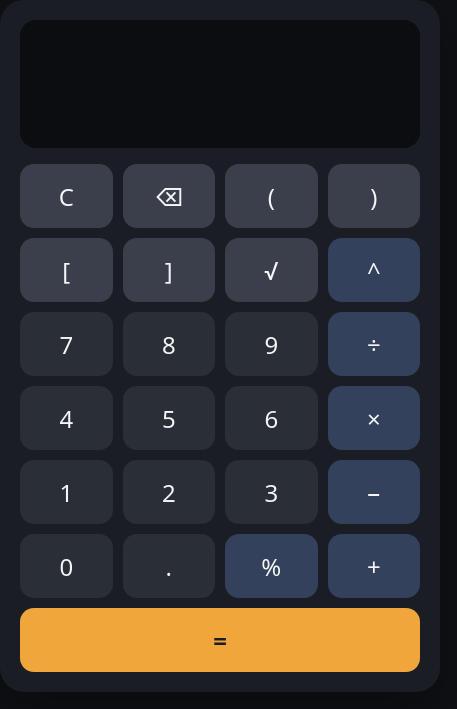
Test: Calculator › computes an expression entered with the keypad
Step 1. Click the button "2" → point(169, 492), box [122, 460, 215, 524]
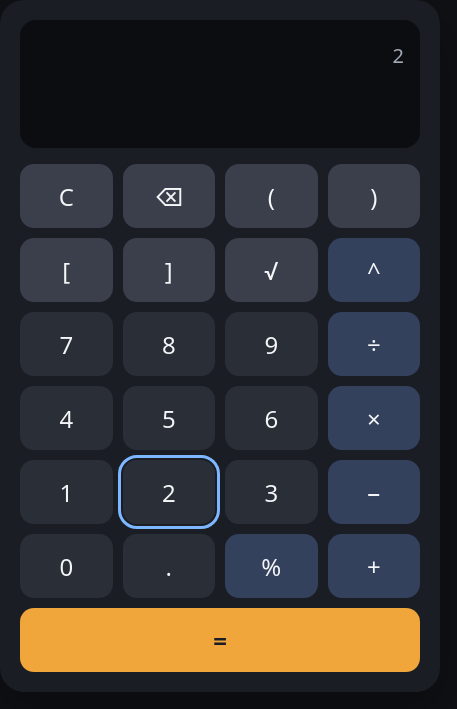
Step 2. Click the button named "add" → point(374, 566), box [328, 534, 420, 598]
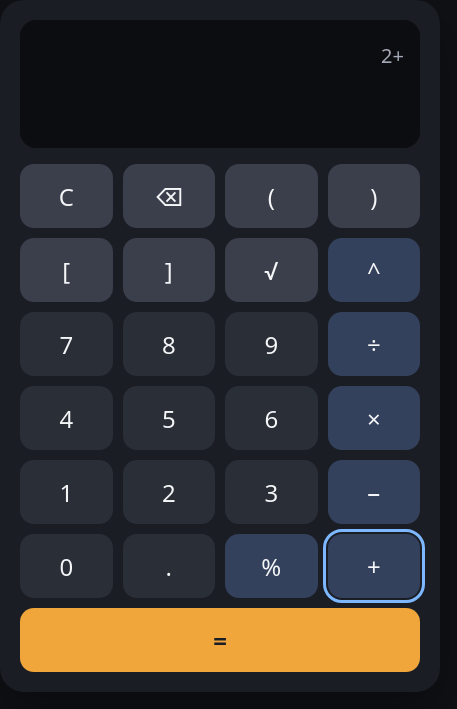
Step 3. Click the button "3" → point(271, 492), box [225, 460, 318, 524]
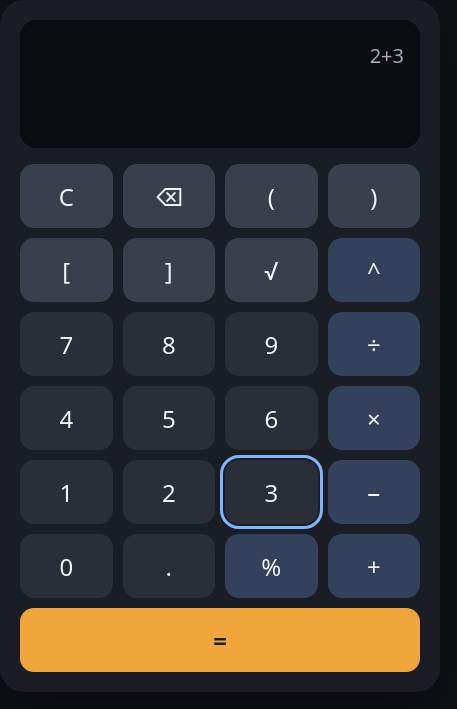
Step 4. Click the button named "multiply" → point(374, 418), box [328, 386, 420, 450]
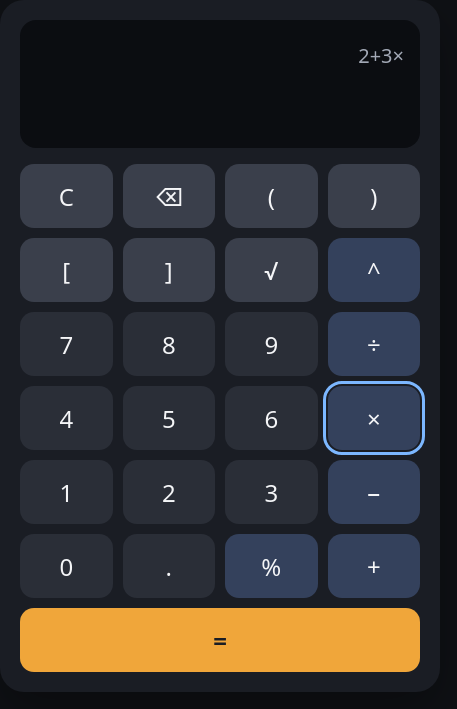
Step 5. Click the button "4" → point(66, 418), box [20, 386, 112, 450]
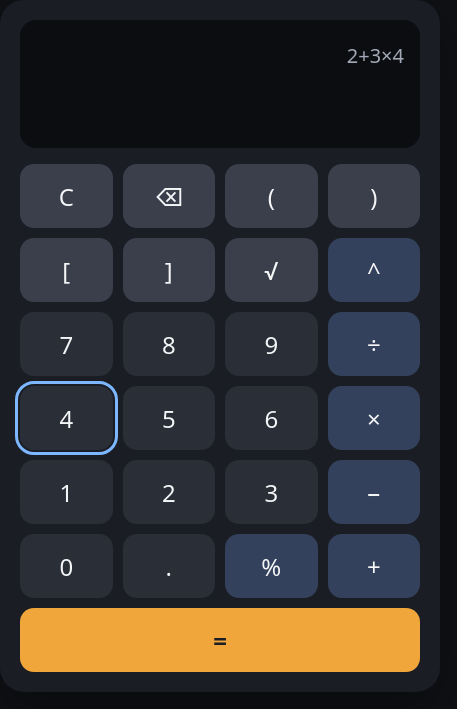
Expected: the text named "Expression" reads "2+3×4", [347, 42, 404, 69]
Step 6. Click the button named "equals" → point(220, 640), box [20, 608, 420, 672]
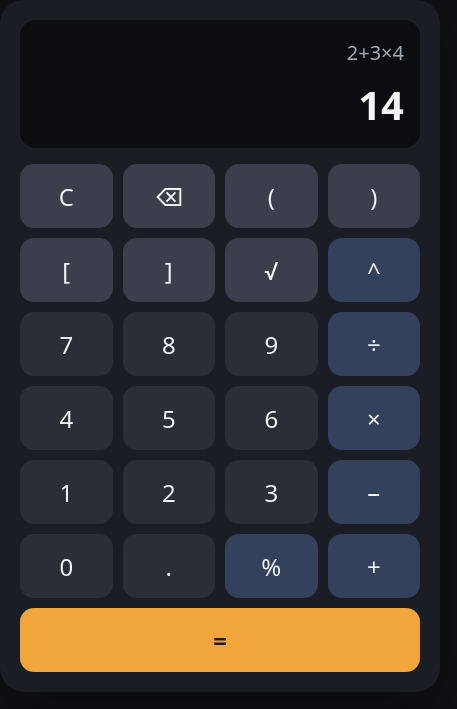
Expected: the message reads "14", [358, 77, 404, 132]
